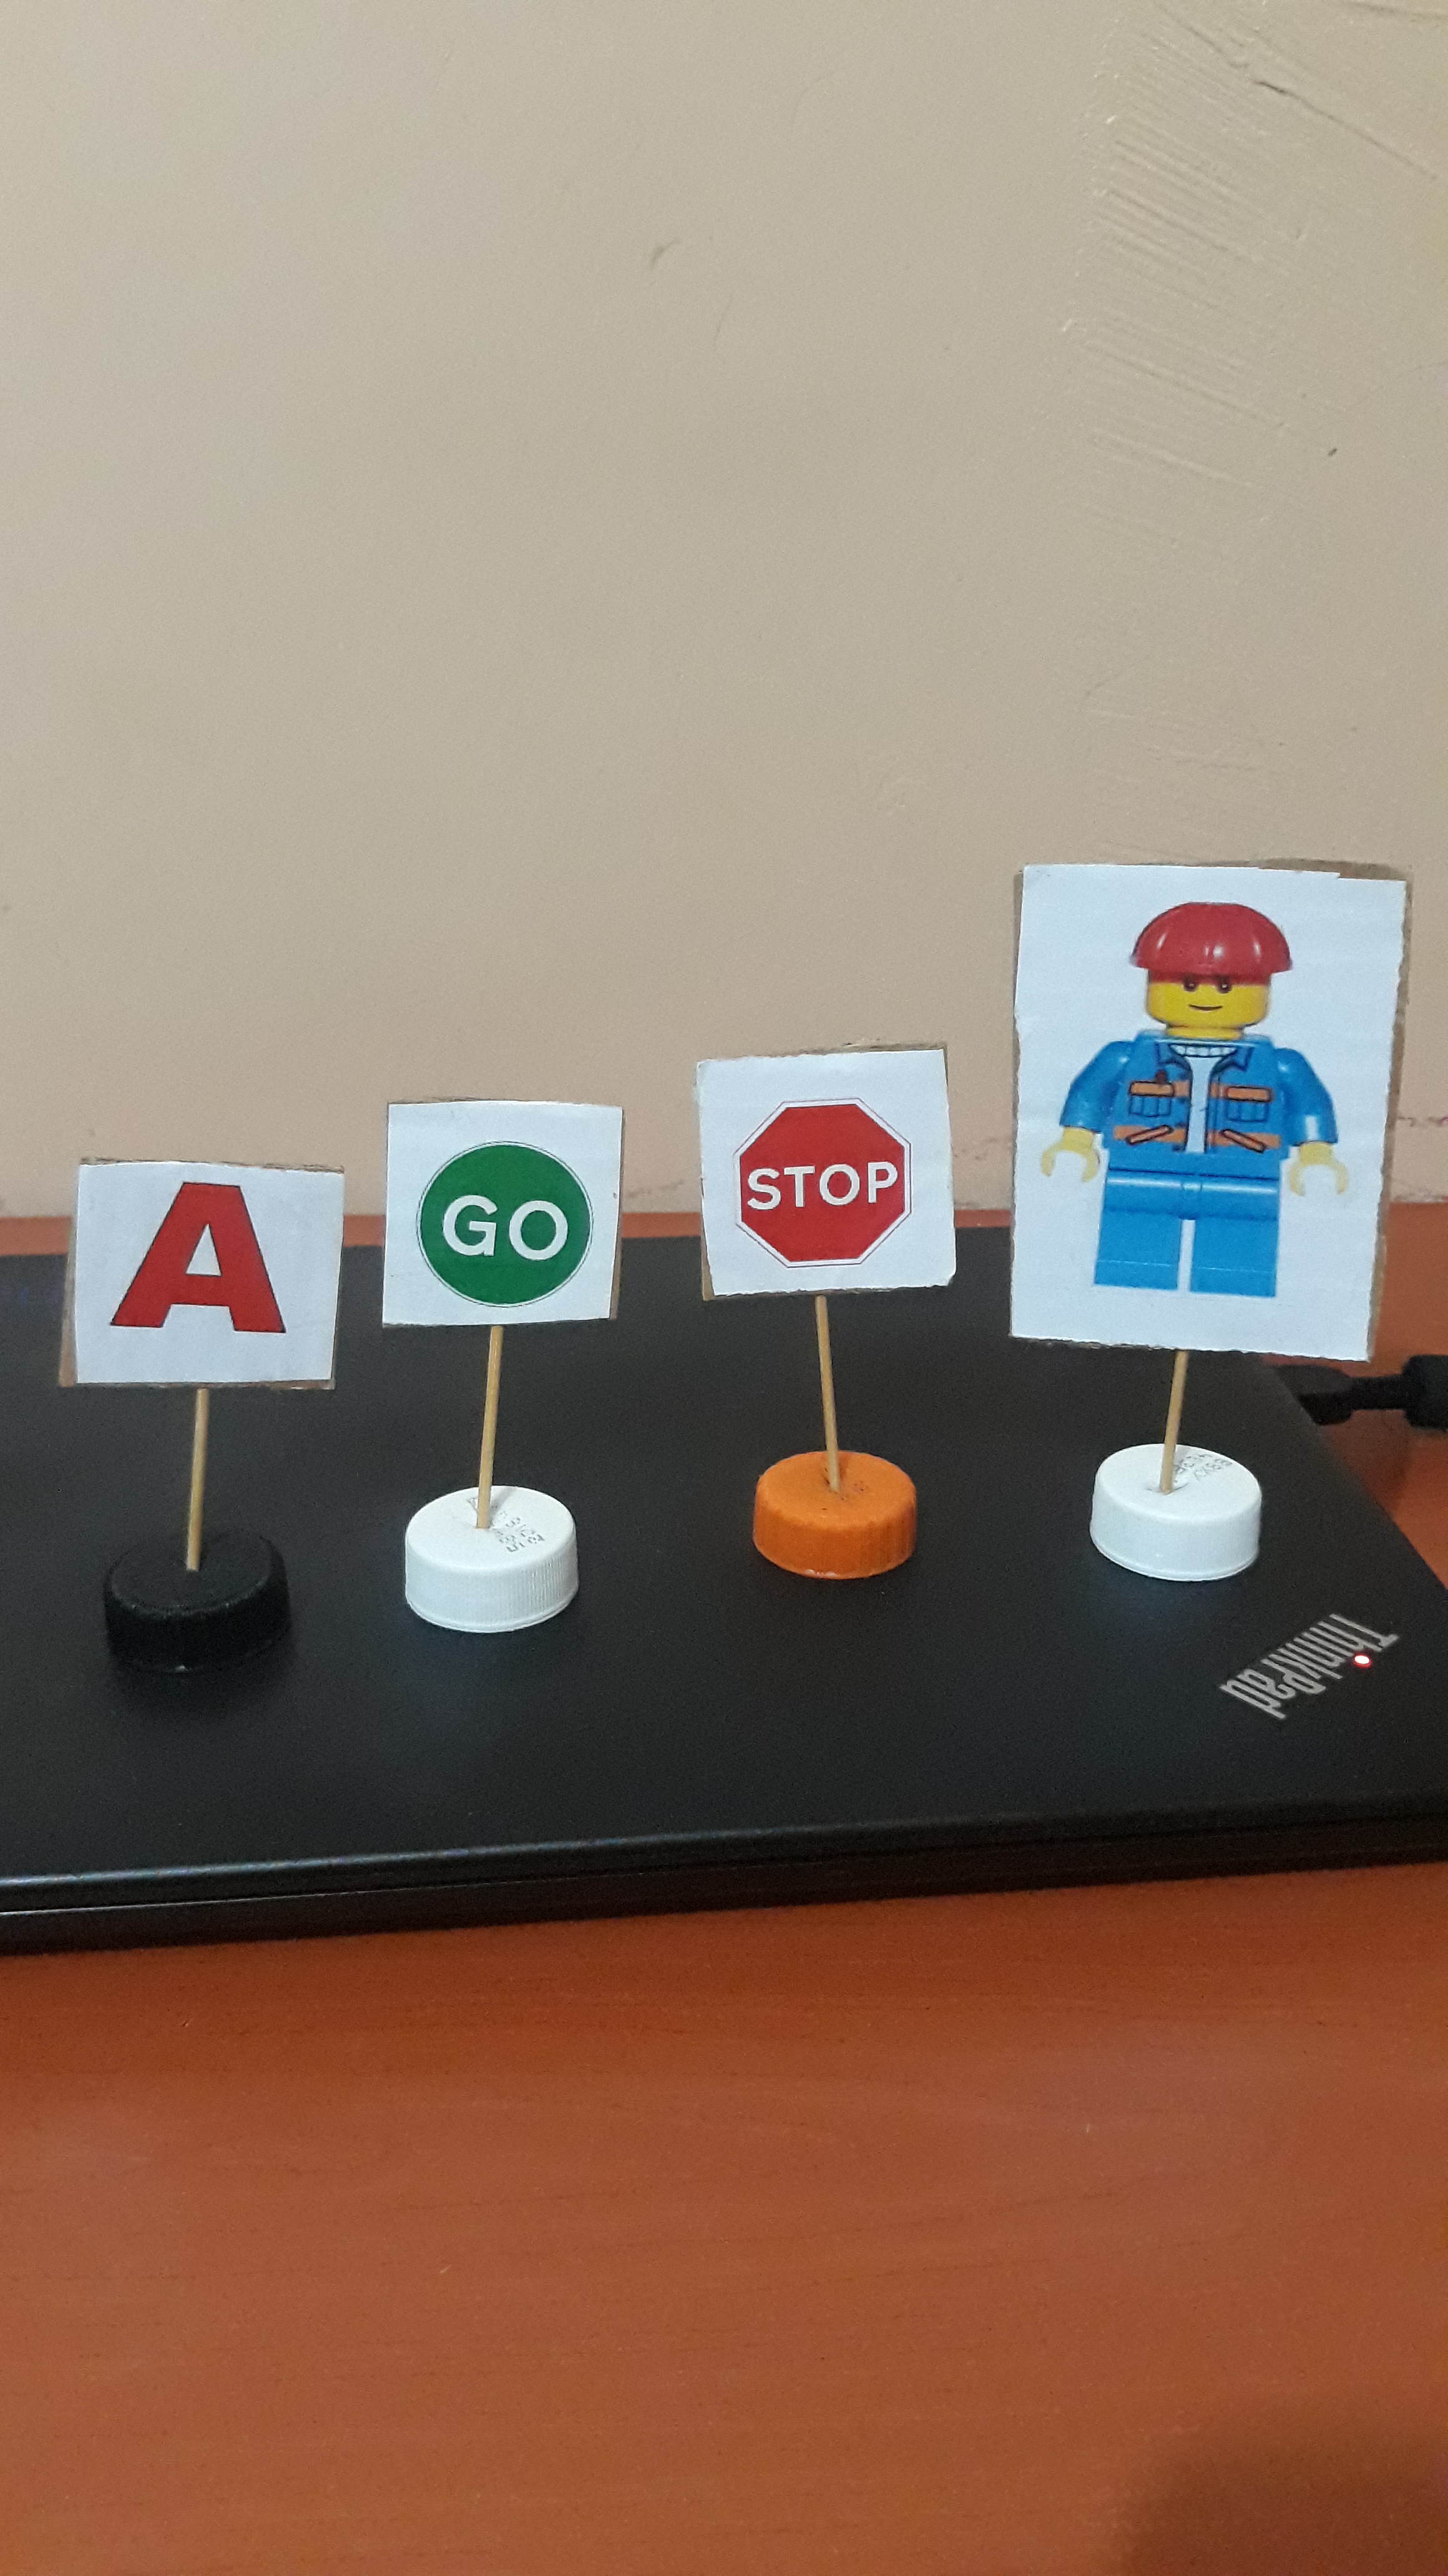go: (404, 1116, 607, 1311)
pedestrian: (1032, 871, 1376, 1350)
stop: (705, 1070, 942, 1280)
zone A: (96, 1163, 326, 1370)
